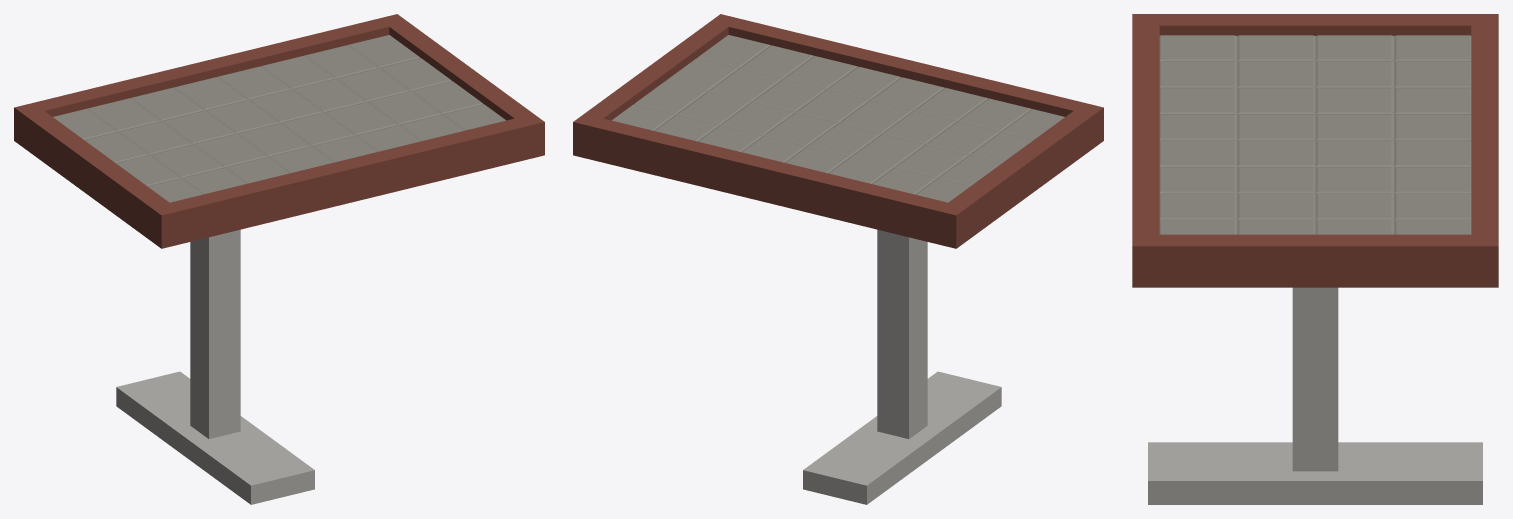
The model's file is SM_Gas_Station_Shed.fbx.
The picture shows the model from 3 angles, left to right: view 1: azimuth 30°, elevation 25°; view 2: azimuth 150°, elevation 25°; view 3: azimuth 270°, elevation 25°; orthographic projection. The views are drawn at different scales.
Visible parts, largest first — view 1: SM_Gas_Station_Shed_LOD0; view 2: SM_Gas_Station_Shed_LOD0; view 3: SM_Gas_Station_Shed_LOD0.
Part boxes in pixels (box(x1,y1,x2,y2)): SM_Gas_Station_Shed_LOD0: box(14, 14, 544, 504); SM_Gas_Station_Shed_LOD0: box(573, 14, 1103, 504); SM_Gas_Station_Shed_LOD0: box(1132, 14, 1498, 504).
Bounding box in the file's own units: 840 × 560 × 665.
Materials: 1 (1 with a texture image).
